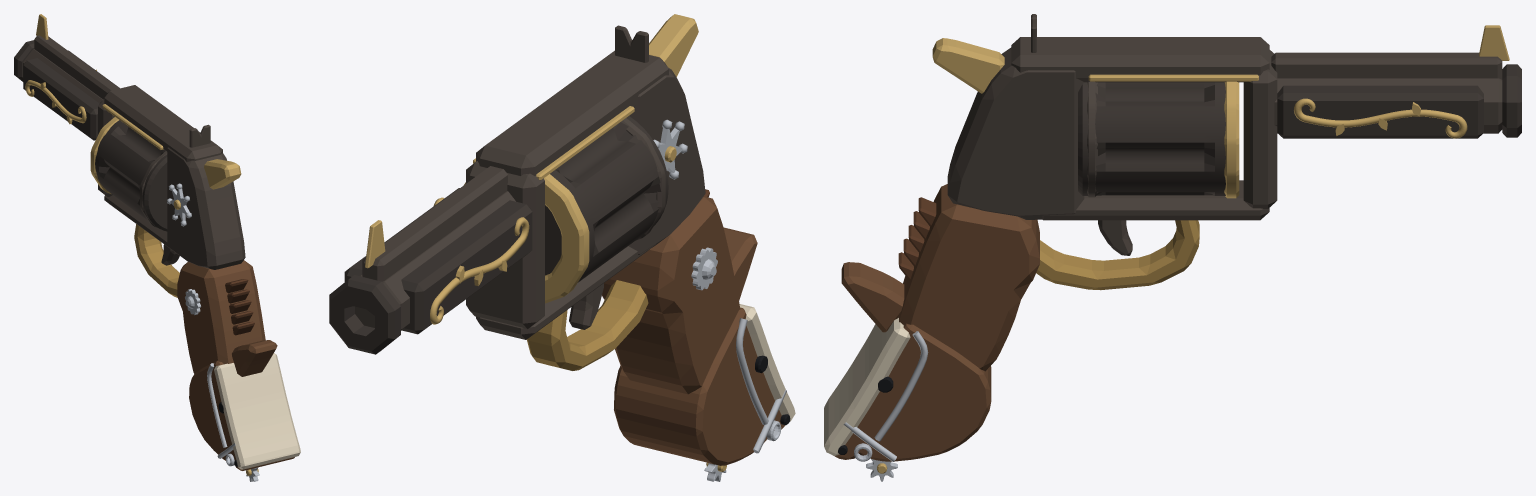
The model's file is w_revolver@revolver_dust.glb.
The picture shows the model from 3 angles, left to right: view 1: azimuth 30°, elevation 25°; view 2: azimuth 150°, elevation 25°; view 3: azimuth 270°, elevation 25°; orthographic projection. The views are drawn at different scales.
Parts seen in each view (by area): view 1: body_wzA, grip_wzA, grip_wzN.001, cylinder_wzB, barrel_wzA, barrel_wzB, body_wzN.001, grip_wzN, hammer_wzN, barrel_wzN.001, grip_wzN.003, badge_wzN (+5 smaller); view 2: grip_wzA, body_wzA, cylinder_wzB, barrel_wzA, barrel_wzB, body_wzN.001, barrel_wzB.001, cylinder_wzN, hammer_wzN, barrel_wzN.001, grip_wzN.001, grip_wzN.003 (+7 smaller); view 3: body_wzA, grip_wzA, cylinder_wzB, barrel_wzA, barrel_wzB, body_wzN.001, grip_wzN.001, hammer_wzN, barrel_wzN.001, cylinder_wzN, grip_wzN, barrel_wzB.001 (+5 smaller).
Part boxes in pixels (x1,y1,x2,y2): body_wzA: (98,85,245,269); grip_wzA: (177,260,294,470); grip_wzN.001: (214,353,300,469); cylinder_wzB: (95,120,167,231); barrel_wzA: (23,50,119,140); barrel_wzB: (23,35,119,103); body_wzN.001: (134,224,179,297); grip_wzN: (225,279,254,335); hammer_wzN: (204,159,241,189); barrel_wzN.001: (25,69,96,124); grip_wzN.003: (207,363,295,458); badge_wzN: (167,183,191,226); grip_wzA: (602,196,784,465); body_wzA: (466,50,705,339); cylinder_wzB: (545,116,668,282); barrel_wzA: (344,188,532,334); barrel_wzB: (355,166,515,330); body_wzN.001: (527,280,648,370); barrel_wzB.001: (329,275,400,354); cylinder_wzN: (464,174,589,303); hammer_wzN: (649,14,698,76); barrel_wzN.001: (430,197,529,324); grip_wzN.001: (739,304,795,421); grip_wzN.003: (736,318,786,453); body_wzA: (947,37,1277,220); grip_wzA: (833,184,1039,461); cylinder_wzB: (1078,82,1225,195); barrel_wzA: (1277,85,1483,138); barrel_wzB: (1271,52,1502,133); body_wzN.001: (1036,220,1199,290); grip_wzN.001: (824,318,910,455); hammer_wzN: (932,38,1004,93); barrel_wzN.001: (1294,98,1467,138); cylinder_wzN: (1224,81,1239,198); grip_wzN: (898,197,936,280); barrel_wzB.001: (1502,64,1521,137).
Bounding box in the file's own units: 0.0885 × 0.334 × 0.4592.
